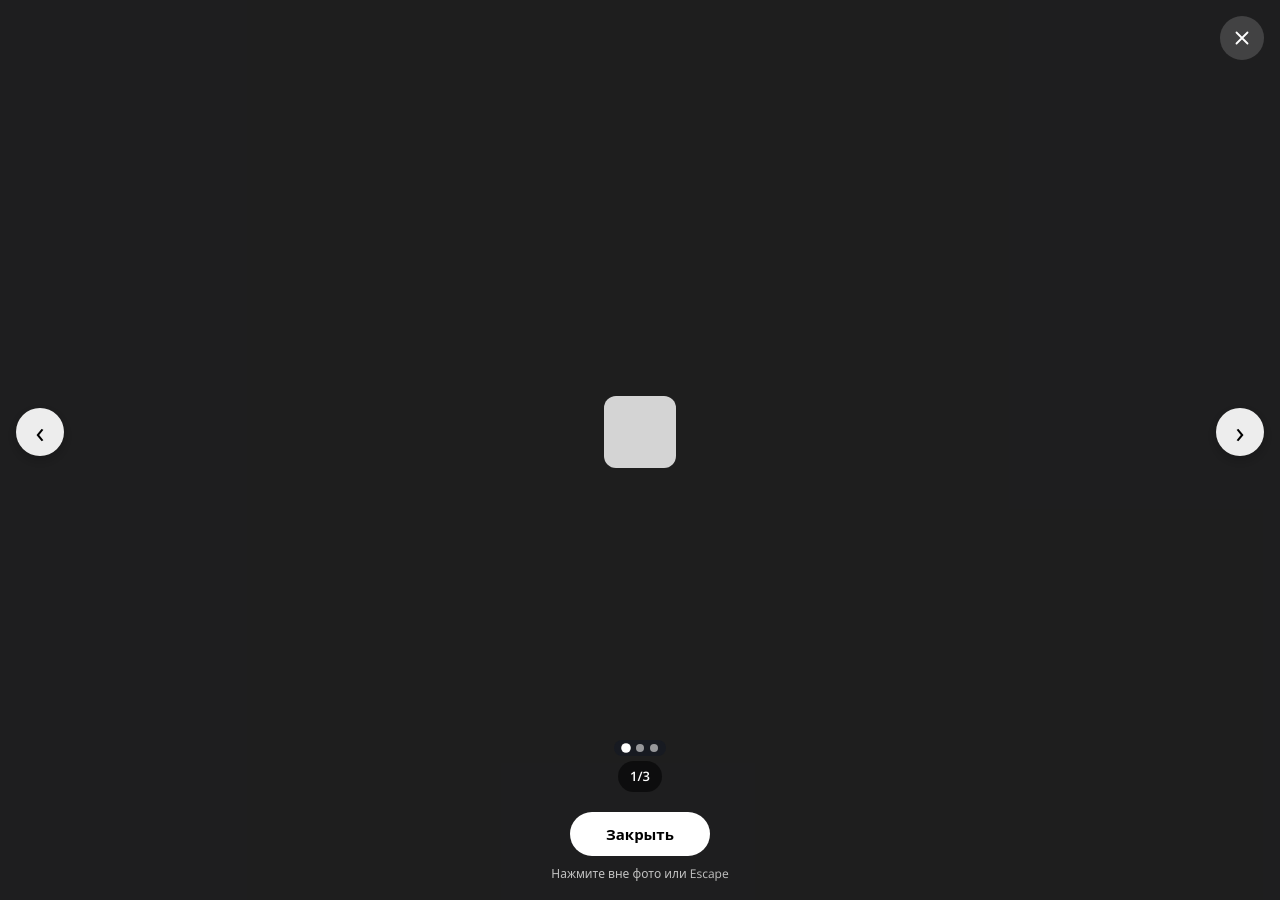
ListingPhotoLightbox › switches photo via pagination dots
The width and height of the screenshot is (1280, 900).
Click the tab named "Фото 3" at (654, 748), box [650,744,658,752]
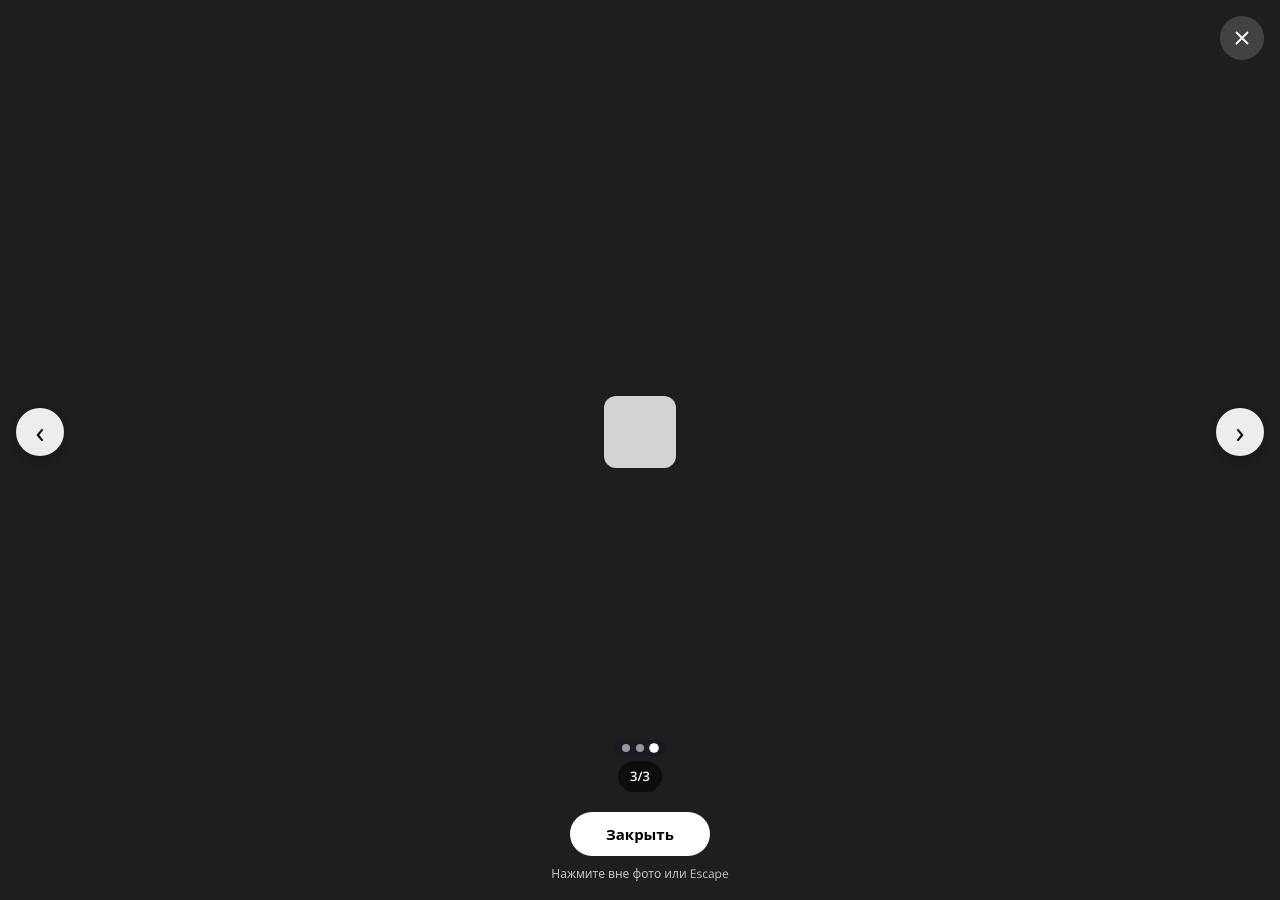
Expected: the text "3/3" is shown, [618,760,662,792]
